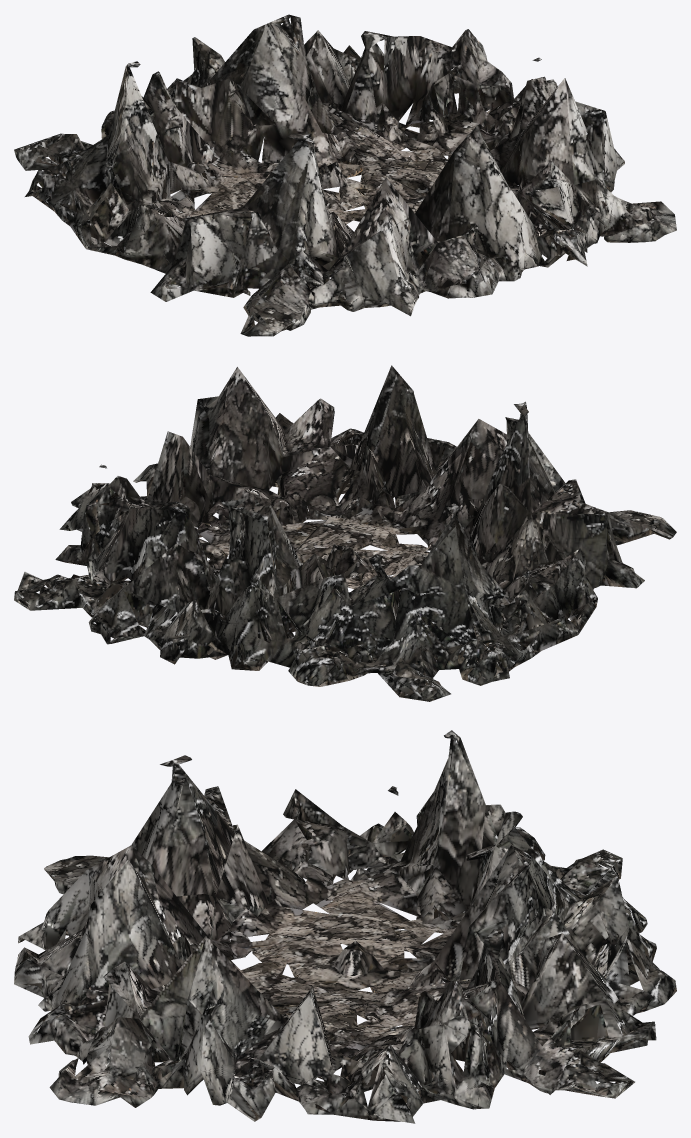
Rendered from InkRidge.glb.
3 views of the same model, one above another, from view 1: azimuth 30°, elevation 25°; view 2: azimuth 150°, elevation 25°; view 3: azimuth 270°, elevation 25° (orthographic). The views are drawn at different scales.
Parts seen in each view (by area): view 1: texture_mapping; view 2: texture_mapping; view 3: texture_mapping.
Part boxes in pixels (x1=…): texture_mapping: x1=14, y1=14, x2=676, y2=336; texture_mapping: x1=14, y1=365, x2=676, y2=701; texture_mapping: x1=14, y1=730, x2=676, y2=1123.
Size of the model in its own units: 0.9382 by 0.2554 by 0.9315.
Materials: 1 (1 with a texture image).
